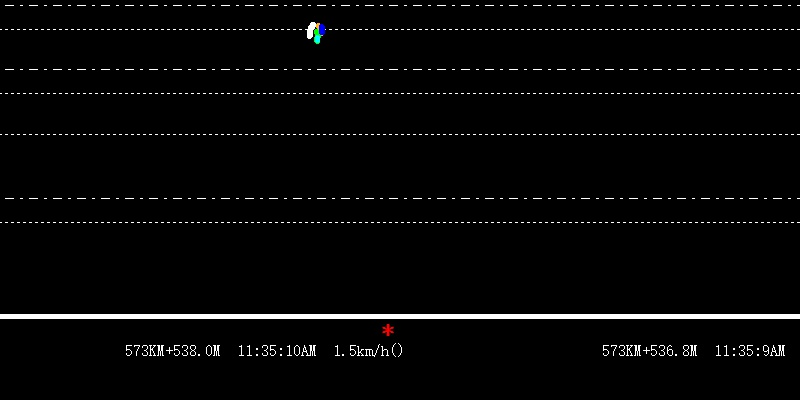face_2: (305, 21, 326, 46)
star: (380, 322, 396, 338)
